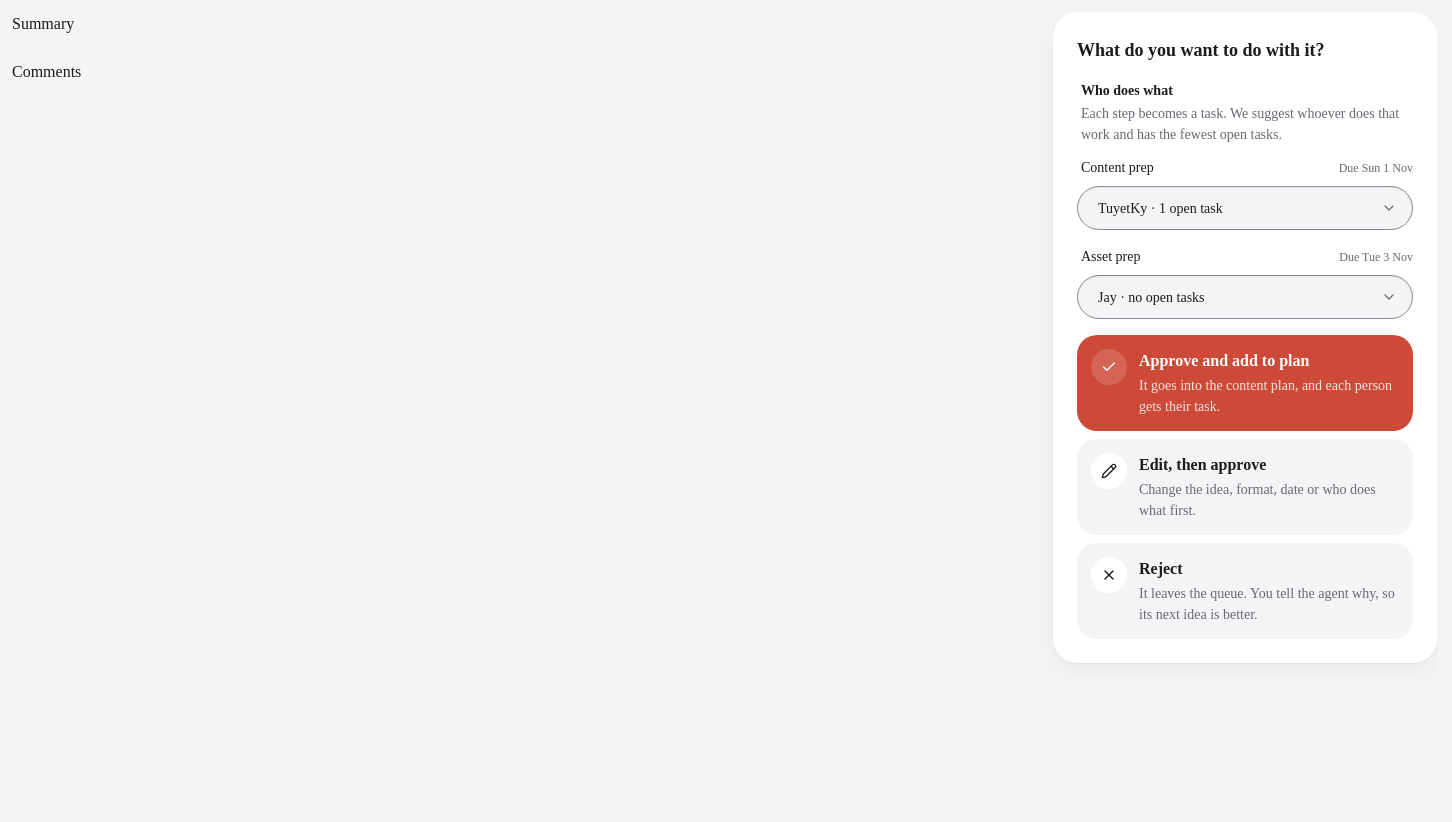
Test: asks for a reason before rejecting
This screenshot has width=1452, height=822.
Click the button "Reject" at (1245, 591), box top-left (1077, 543), bottom-right (1413, 639)
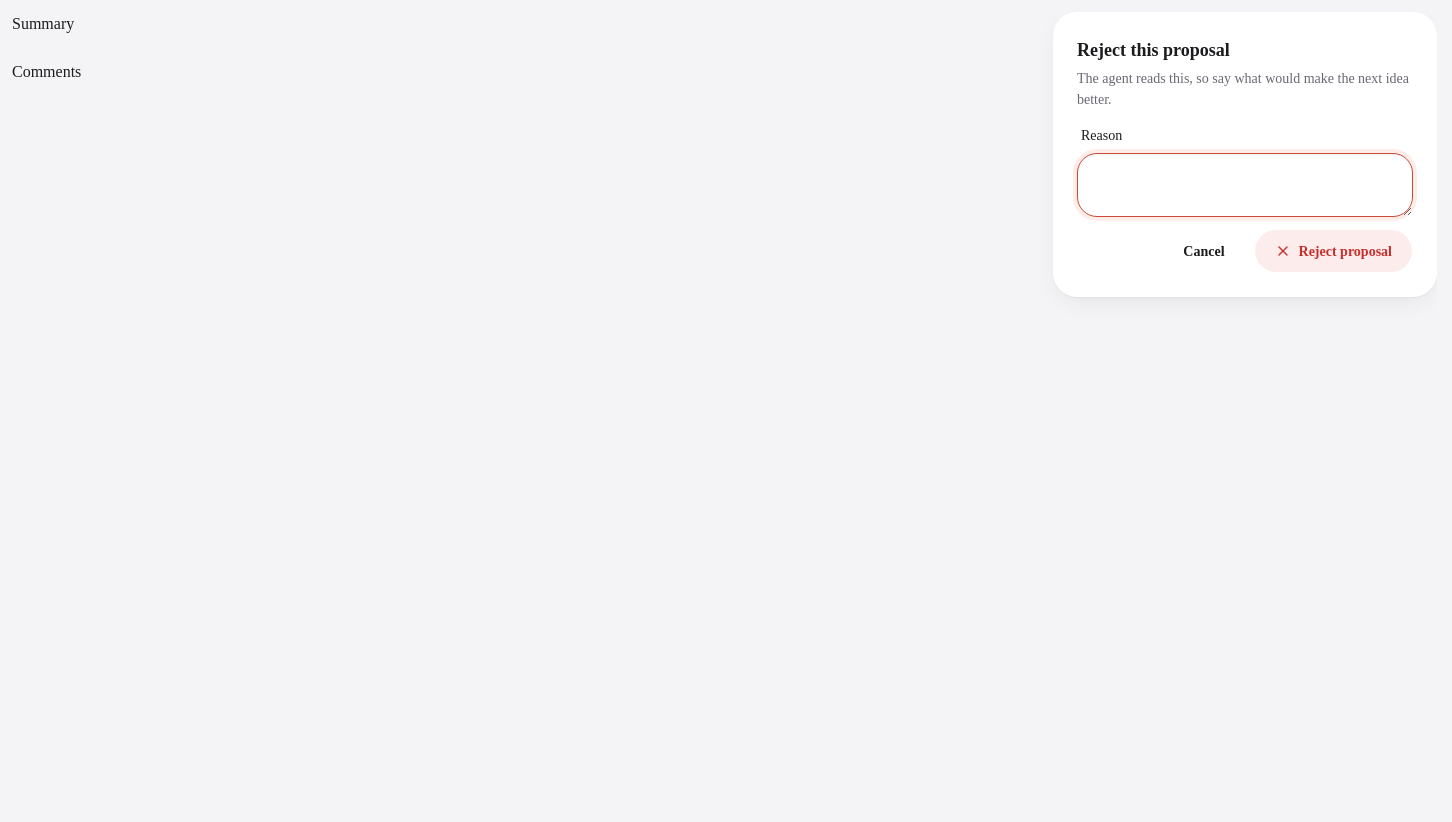
Expected: the text box labelled "Reason" is shown, top-left (1077, 153), bottom-right (1413, 217)
Expected: the button "Reject proposal" is shown, top-left (1254, 229), bottom-right (1413, 273)
